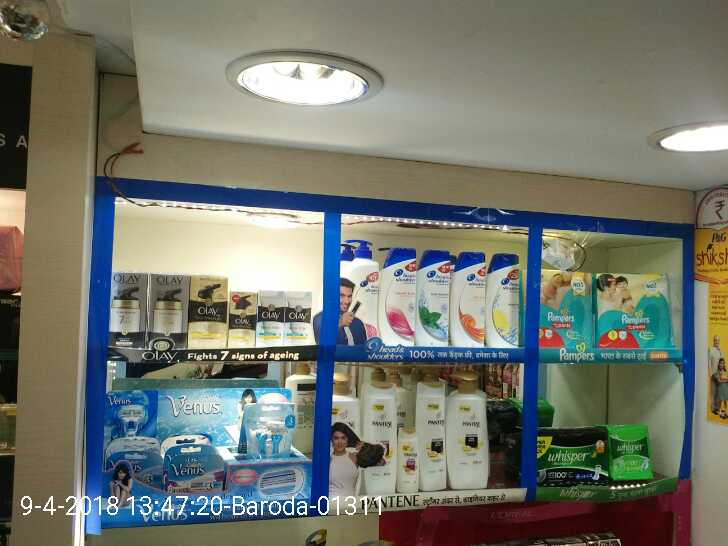venus: (239, 402, 297, 465), (104, 438, 161, 495), (164, 444, 224, 496), (105, 391, 158, 436)
